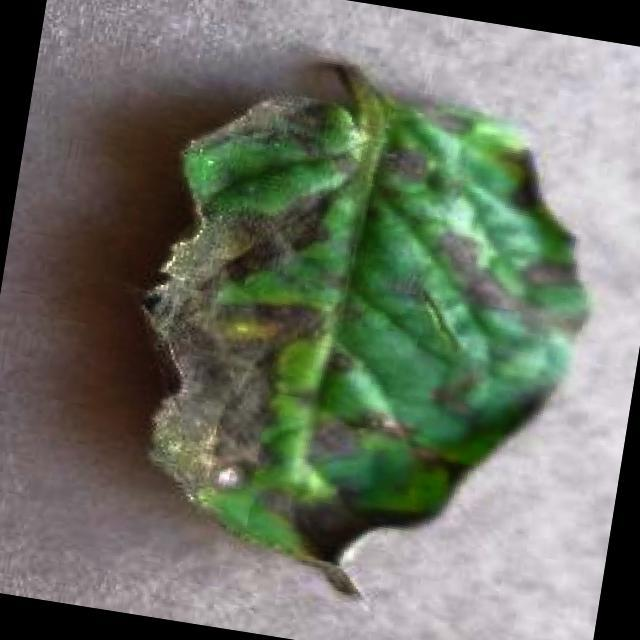Tomato Early blight leaf: (98, 76, 618, 629)
